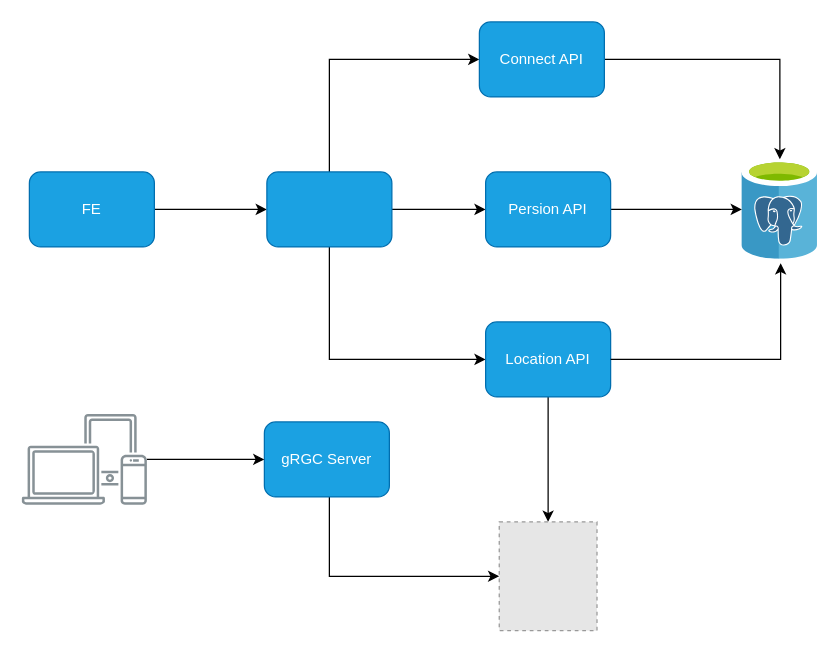
This 839x653 diagram has some shape labels left out. Grey dashed boxes stand in for pictures. The shapes that lost their labels are listed below. From the top down, each one's centre as x and y in pixels, then its label:
point 329,209: RestAPI
point 83,458: devices
